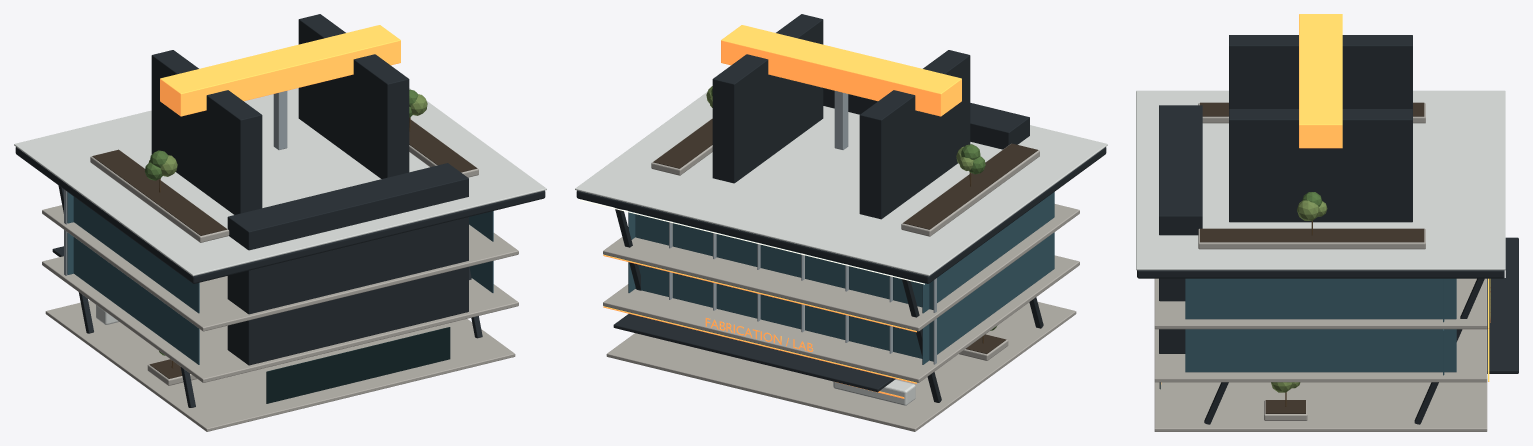
File: fabrication.glb
3 renders of one model, left to right at view 1: azimuth 30°, elevation 25°; view 2: azimuth 150°, elevation 25°; view 3: azimuth 270°, elevation 25°, orthographic. The views are drawn at different scales.
Parts seen in each view (by area): view 1: Fabrication_Graphite, Fabrication_Concrete, Fabrication_Pearl, Fabrication_Glazing, Fabrication_Orange, Mission wall.002, Fabrication_Soil, Fabrication_Metal, Fabrication_Leaf, Fabrication_LeafLight; view 2: Fabrication_Concrete, Fabrication_Graphite, Fabrication_Pearl, Fabrication_Glazing, Fabrication_Orange, Fabrication_Soil, Fabrication_Metal, Roof perimeter light.003; view 3: Fabrication_Graphite, Fabrication_Pearl, Fabrication_Concrete, Fabrication_Glazing, Fabrication_Orange, Fabrication_Soil, Fabrication_LeafLight.
Boxes of the visible parts, x1,y1,x2,y2 form: Fabrication_Graphite: (15, 14, 545, 407); Fabrication_Concrete: (42, 120, 518, 431); Fabrication_Pearl: (14, 88, 546, 324); Fabrication_Glazing: (67, 192, 493, 364); Fabrication_Orange: (160, 25, 400, 116); Mission wall.002: (266, 327, 450, 403); Fabrication_Soil: (92, 120, 477, 378); Fabrication_Metal: (64, 91, 287, 275); Fabrication_Leaf: (145, 89, 418, 355); Fabrication_LeafLight: (148, 94, 427, 176); Fabrication_Concrete: (603, 118, 1079, 431); Fabrication_Graphite: (576, 14, 1106, 402); Fabrication_Pearl: (575, 92, 1107, 405); Fabrication_Glazing: (628, 192, 1054, 364); Fabrication_Orange: (603, 25, 961, 398); Fabrication_Soil: (653, 119, 1037, 353); Fabrication_Metal: (669, 91, 936, 364); Roof perimeter light.003: (579, 199, 924, 284); Fabrication_Graphite: (1137, 35, 1518, 424); Fabrication_Pearl: (1136, 90, 1505, 270); Fabrication_Concrete: (1154, 103, 1487, 431); Fabrication_Glazing: (1185, 278, 1456, 375); Fabrication_Orange: (1161, 14, 1490, 384); Fabrication_Soil: (1200, 102, 1424, 413); Fabrication_LeafLight: (1271, 200, 1327, 392).
Size of the model in its own units: 48.2 by 35.94 by 43.7.
